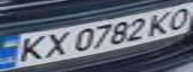0: (69, 26, 97, 53)
2: (124, 15, 154, 43)
7: (90, 21, 115, 50)
8: (109, 18, 133, 46)
K: (6, 34, 54, 65), (142, 9, 178, 37)
O: (160, 5, 193, 30)
X: (36, 29, 72, 60)
